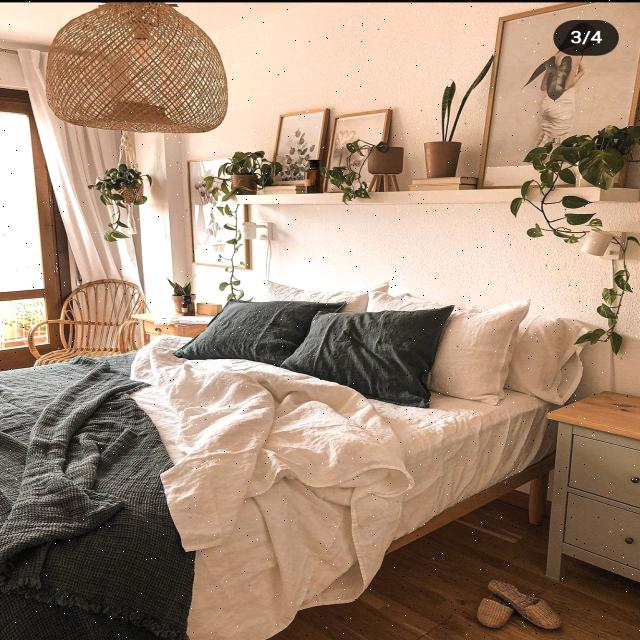bed: (0, 288, 583, 640)
